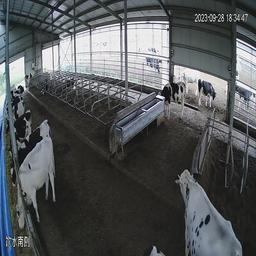cow: (177, 151, 235, 256), (14, 137, 56, 232), (8, 123, 55, 189), (159, 77, 186, 124), (195, 76, 218, 110), (1, 90, 28, 115), (5, 111, 31, 132)
